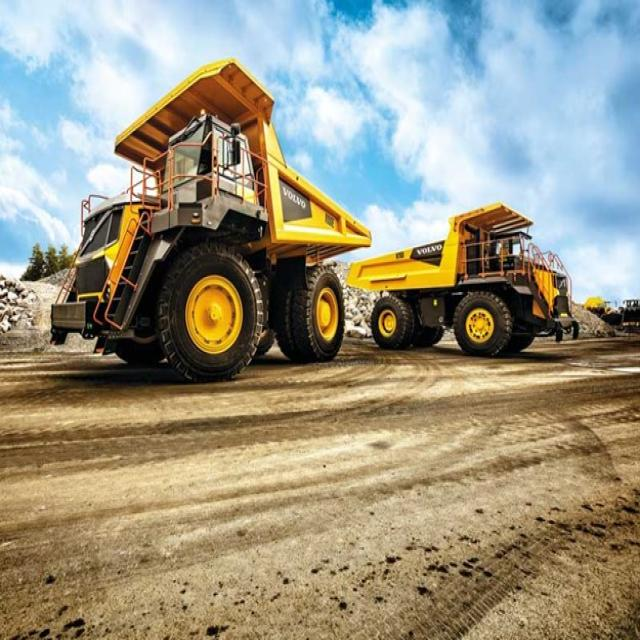dump_truck: (48, 55, 372, 378), (374, 194, 582, 366)
